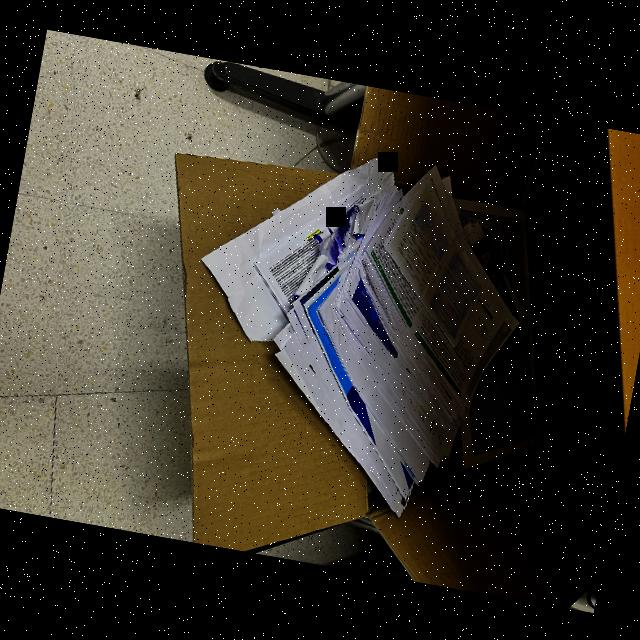reuseable_paper: (164, 124, 567, 530)
